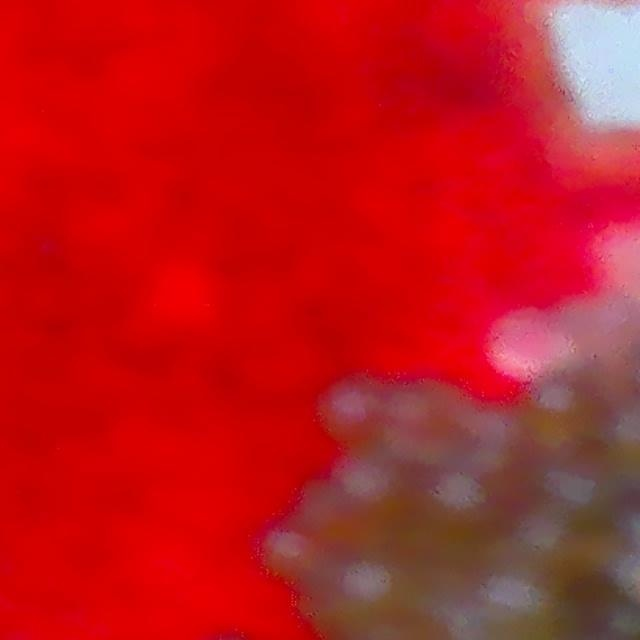SeaGrape: (334, 453, 393, 509)
